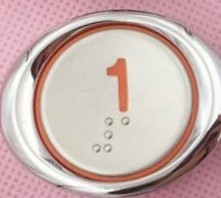Braille: (122, 117, 142, 153), (93, 118, 112, 153)
